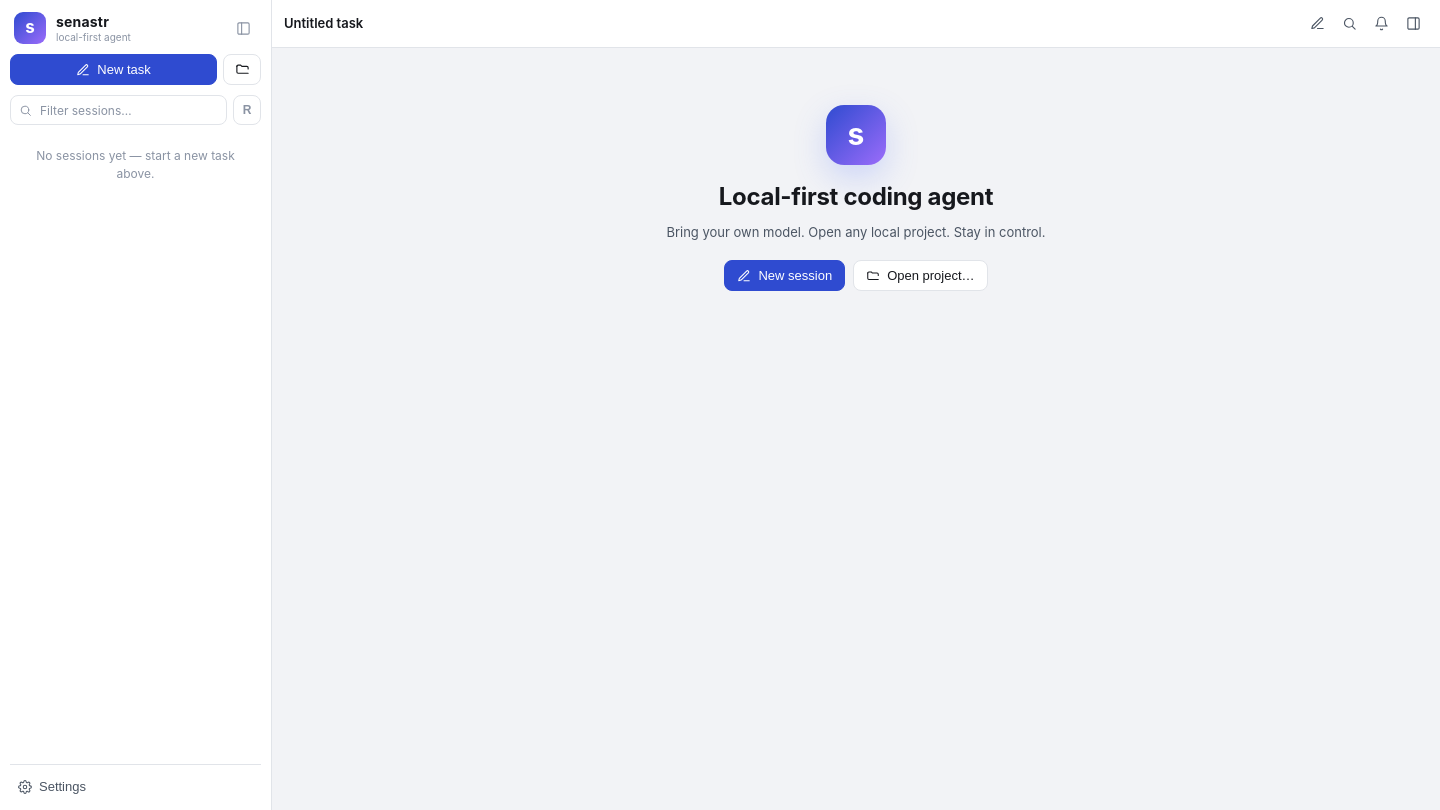
chat shell — sidebar › filter box narrows the list and clears
The width and height of the screenshot is (1440, 810).
Type "beta" into the field with placeholder "Filter sessions…" at {"x": 118, "y": 110}, box [10, 95, 227, 125]
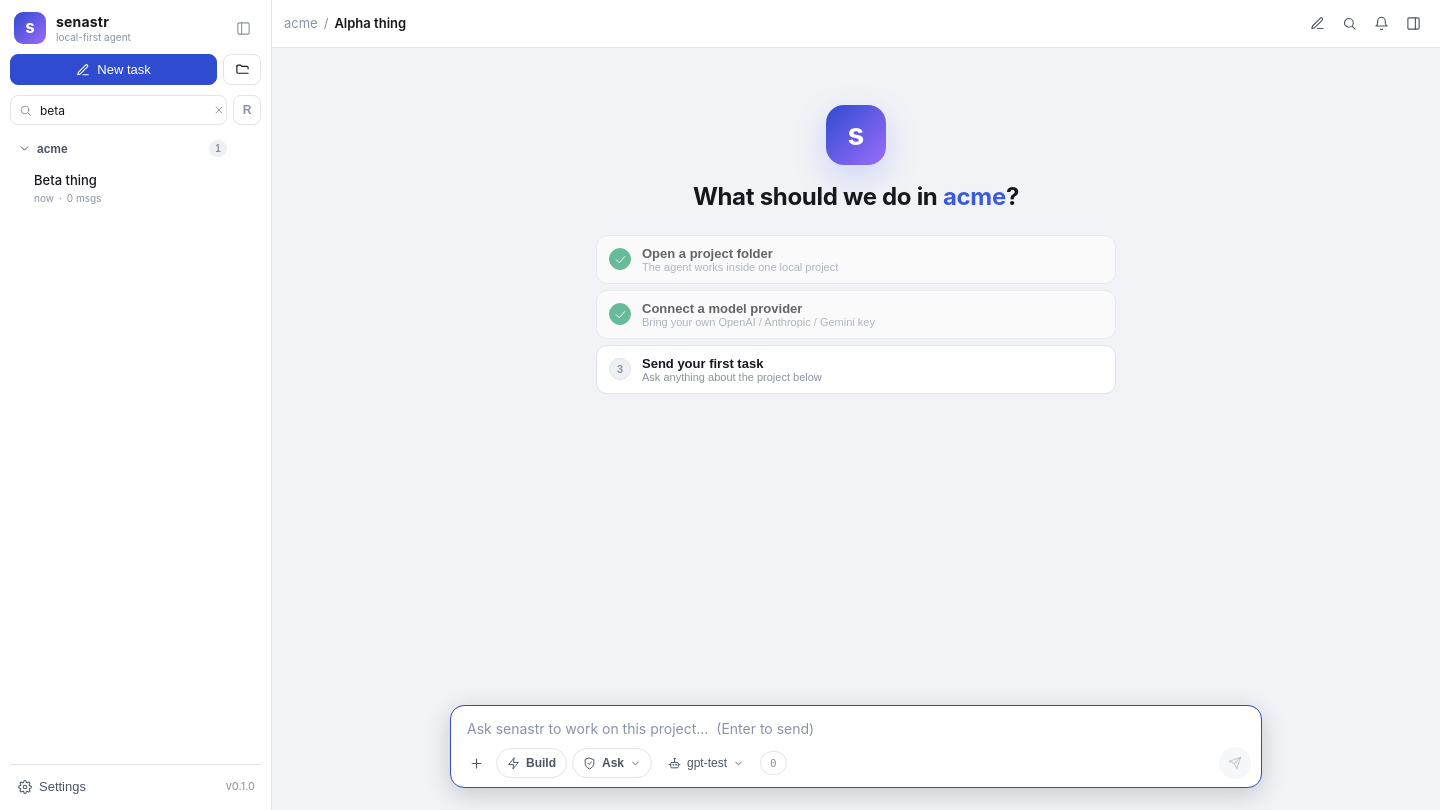
Now the text "Beta thing" is shown, box [34, 172, 97, 188]
Click the button named "Clear filter" at {"x": 217, "y": 110}, box [207, 100, 227, 120]
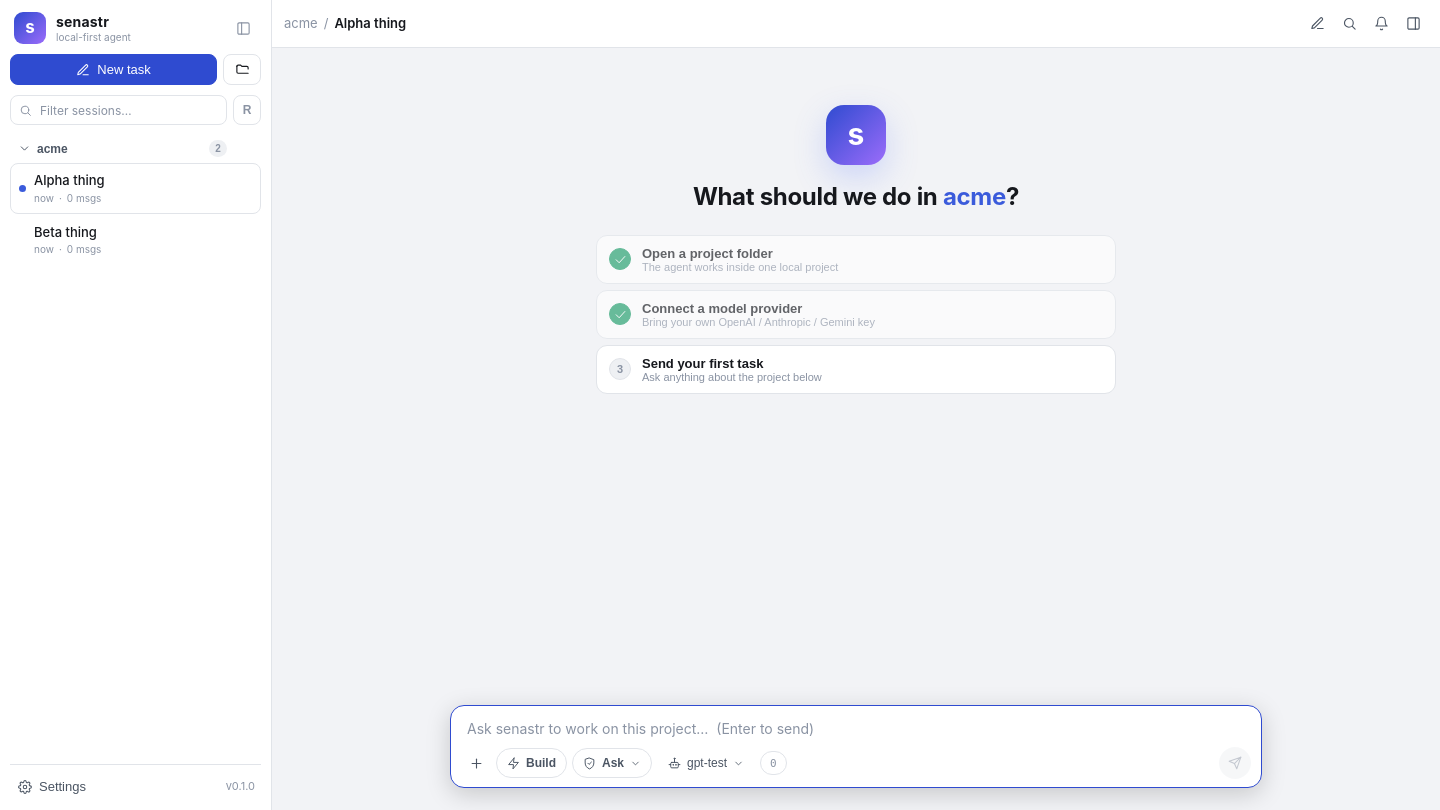
Now the text "Alpha thing" below "local-first agent" is shown, box [34, 172, 105, 188]
